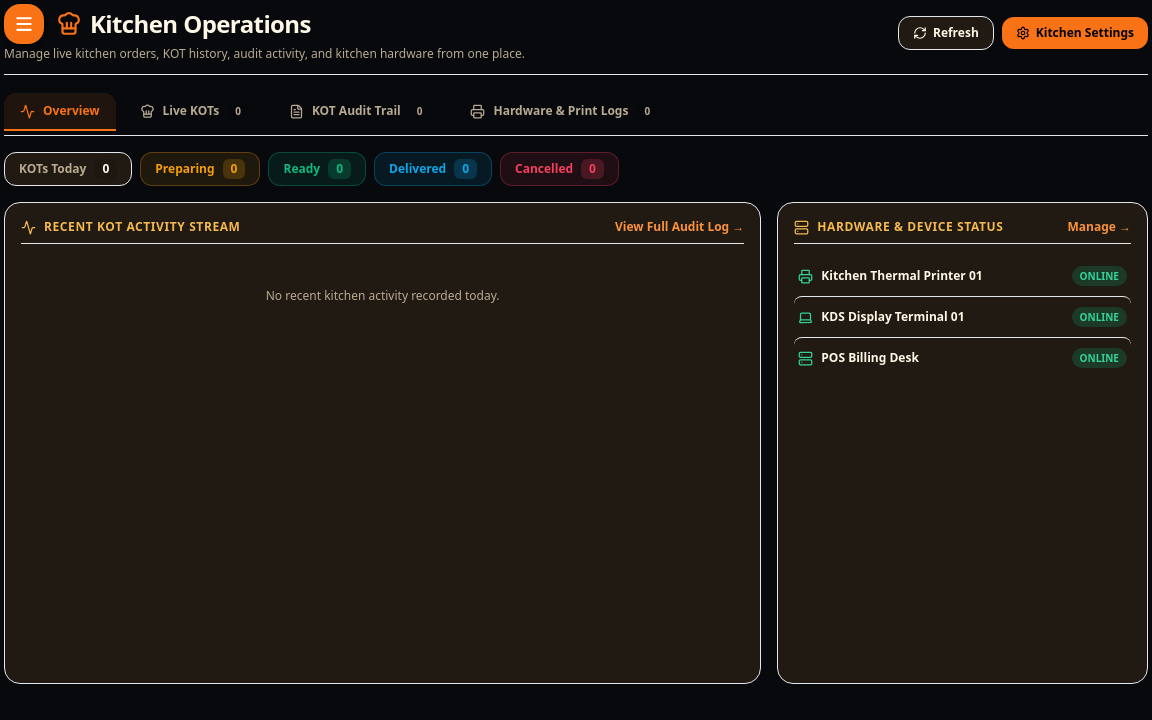
Test: Unified Kitchen Operations Page › switches tabs when clicked
Click the text "Live KOTs" at (191, 111), box [162,103,219,119]
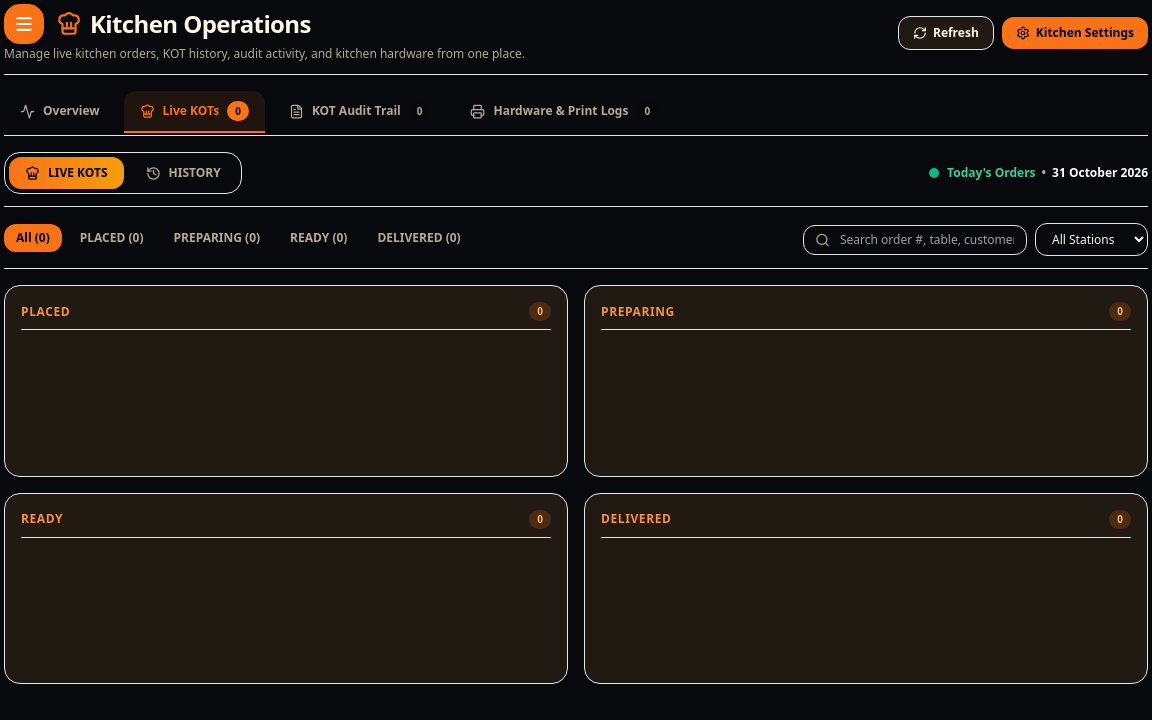
Now the field with placeholder "Search order #, table, customer, or KOT #..." is shown, box [803,224,1027,254]
Click the text "KOT Audit Trail" at (356, 111), box [312,103,401,119]
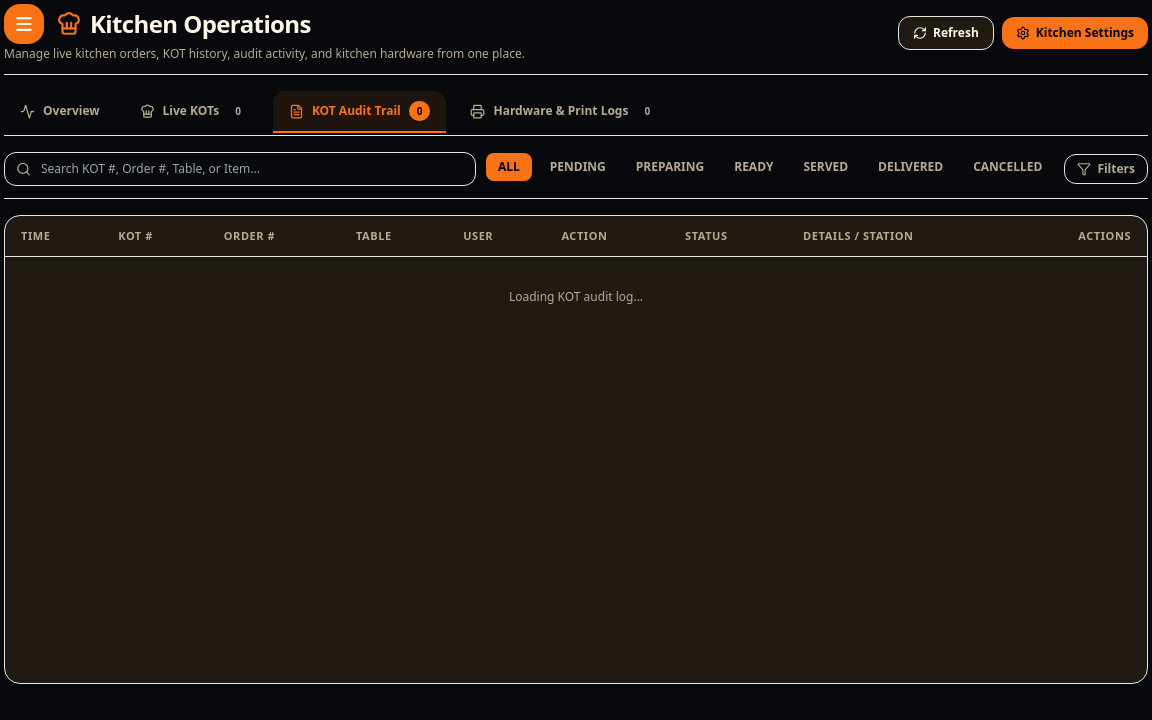
Now the field with placeholder "Search KOT #, Order #, Table, or Item..." is shown, box [4,152,476,186]
Click the text "Hardware & Print Logs" at (561, 111), box [494,103,628,119]
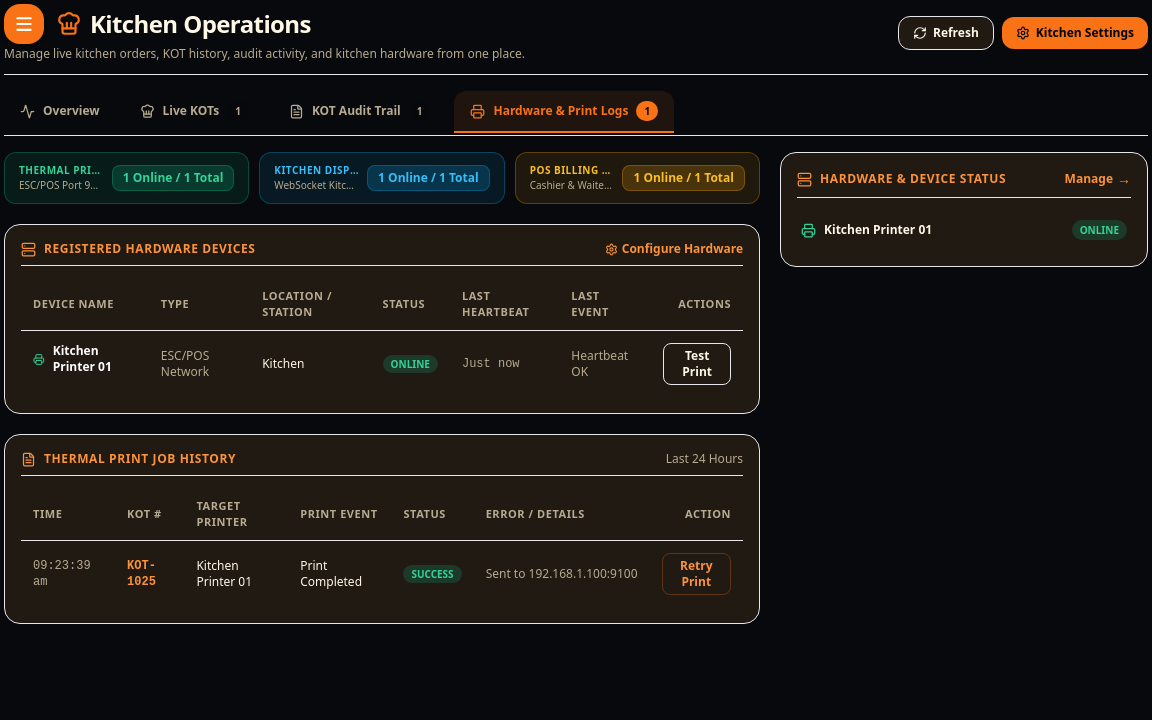
Now the heading "Registered Hardware Devices" is shown, box [21,241,256,257]
